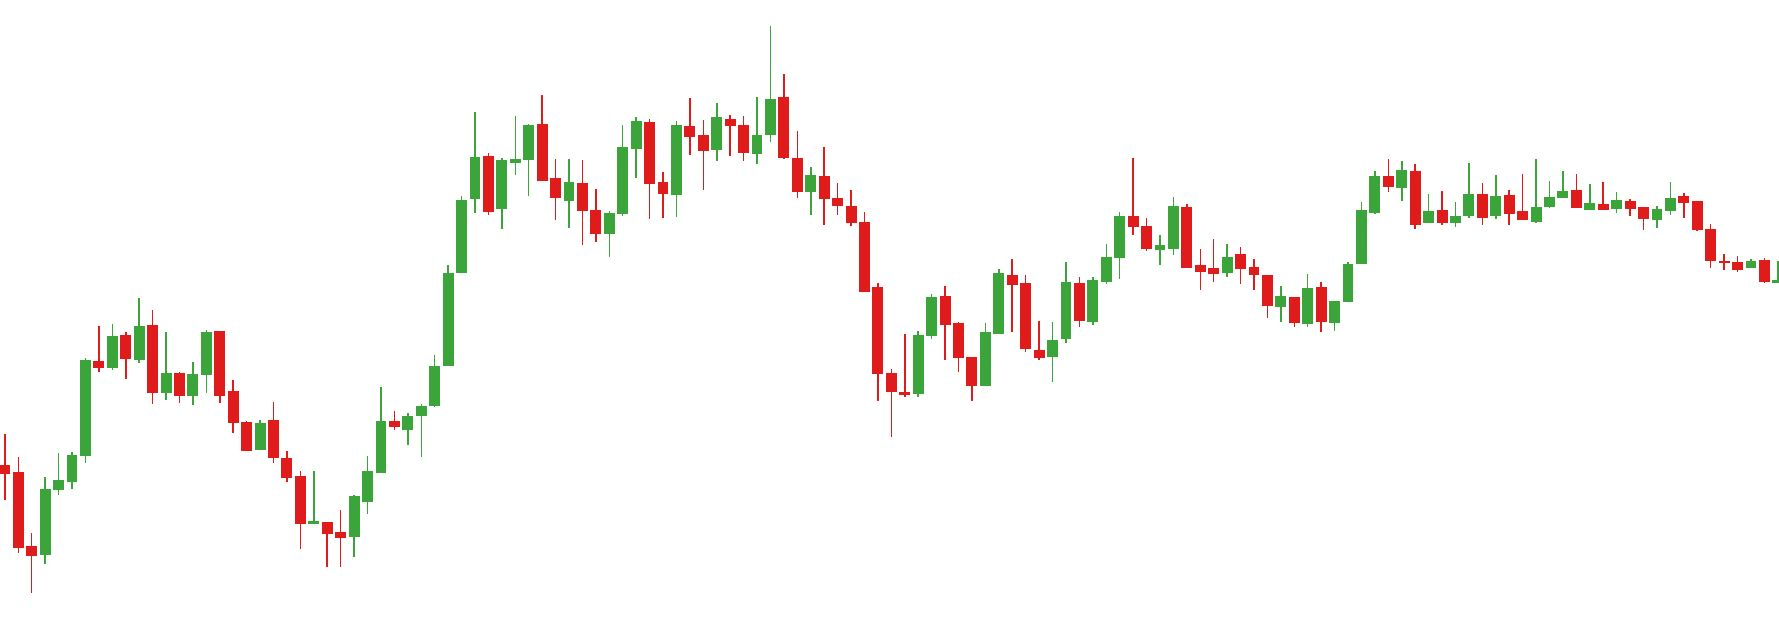sell: (685, 27, 778, 152)
